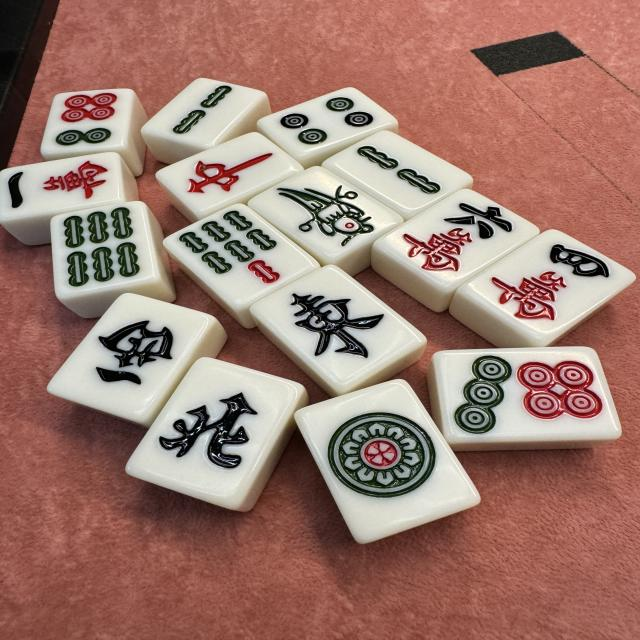hdr: (157, 132, 303, 218)
hwe: (249, 264, 428, 394)
hwn: (126, 356, 305, 511)
hww: (49, 292, 215, 422)
sb1: (248, 165, 402, 263)
sb2: (323, 130, 472, 212), (139, 78, 265, 144)
sb6: (50, 201, 158, 298)
sb7: (163, 202, 315, 310)
sc1: (1, 152, 122, 222)
sc4: (458, 229, 635, 343)
sc6: (373, 189, 541, 290)
sd1: (294, 379, 481, 544)
sd4: (256, 86, 396, 157)
sd6: (41, 88, 134, 154)
sd7: (432, 346, 621, 445)
